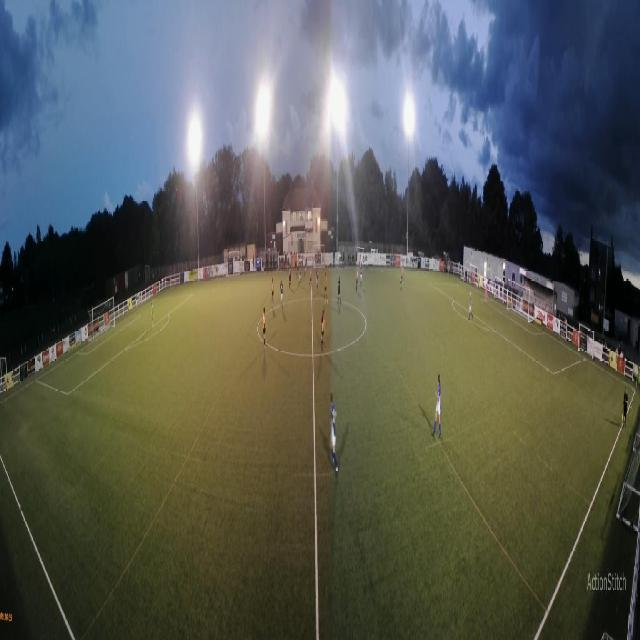ball: (381, 270, 382, 274)
player: (329, 392, 338, 478), (431, 373, 442, 440), (320, 310, 326, 351), (262, 307, 267, 351), (468, 292, 473, 321), (324, 271, 328, 306), (280, 279, 284, 311), (337, 276, 341, 305), (271, 278, 274, 309), (309, 266, 313, 288), (151, 299, 154, 328), (400, 266, 404, 287), (484, 284, 488, 305), (289, 263, 292, 289), (316, 267, 319, 293), (360, 263, 363, 289), (365, 253, 369, 272), (356, 268, 359, 293), (299, 264, 302, 288), (296, 259, 299, 279), (401, 257, 404, 277), (304, 258, 307, 276), (359, 254, 361, 270)
